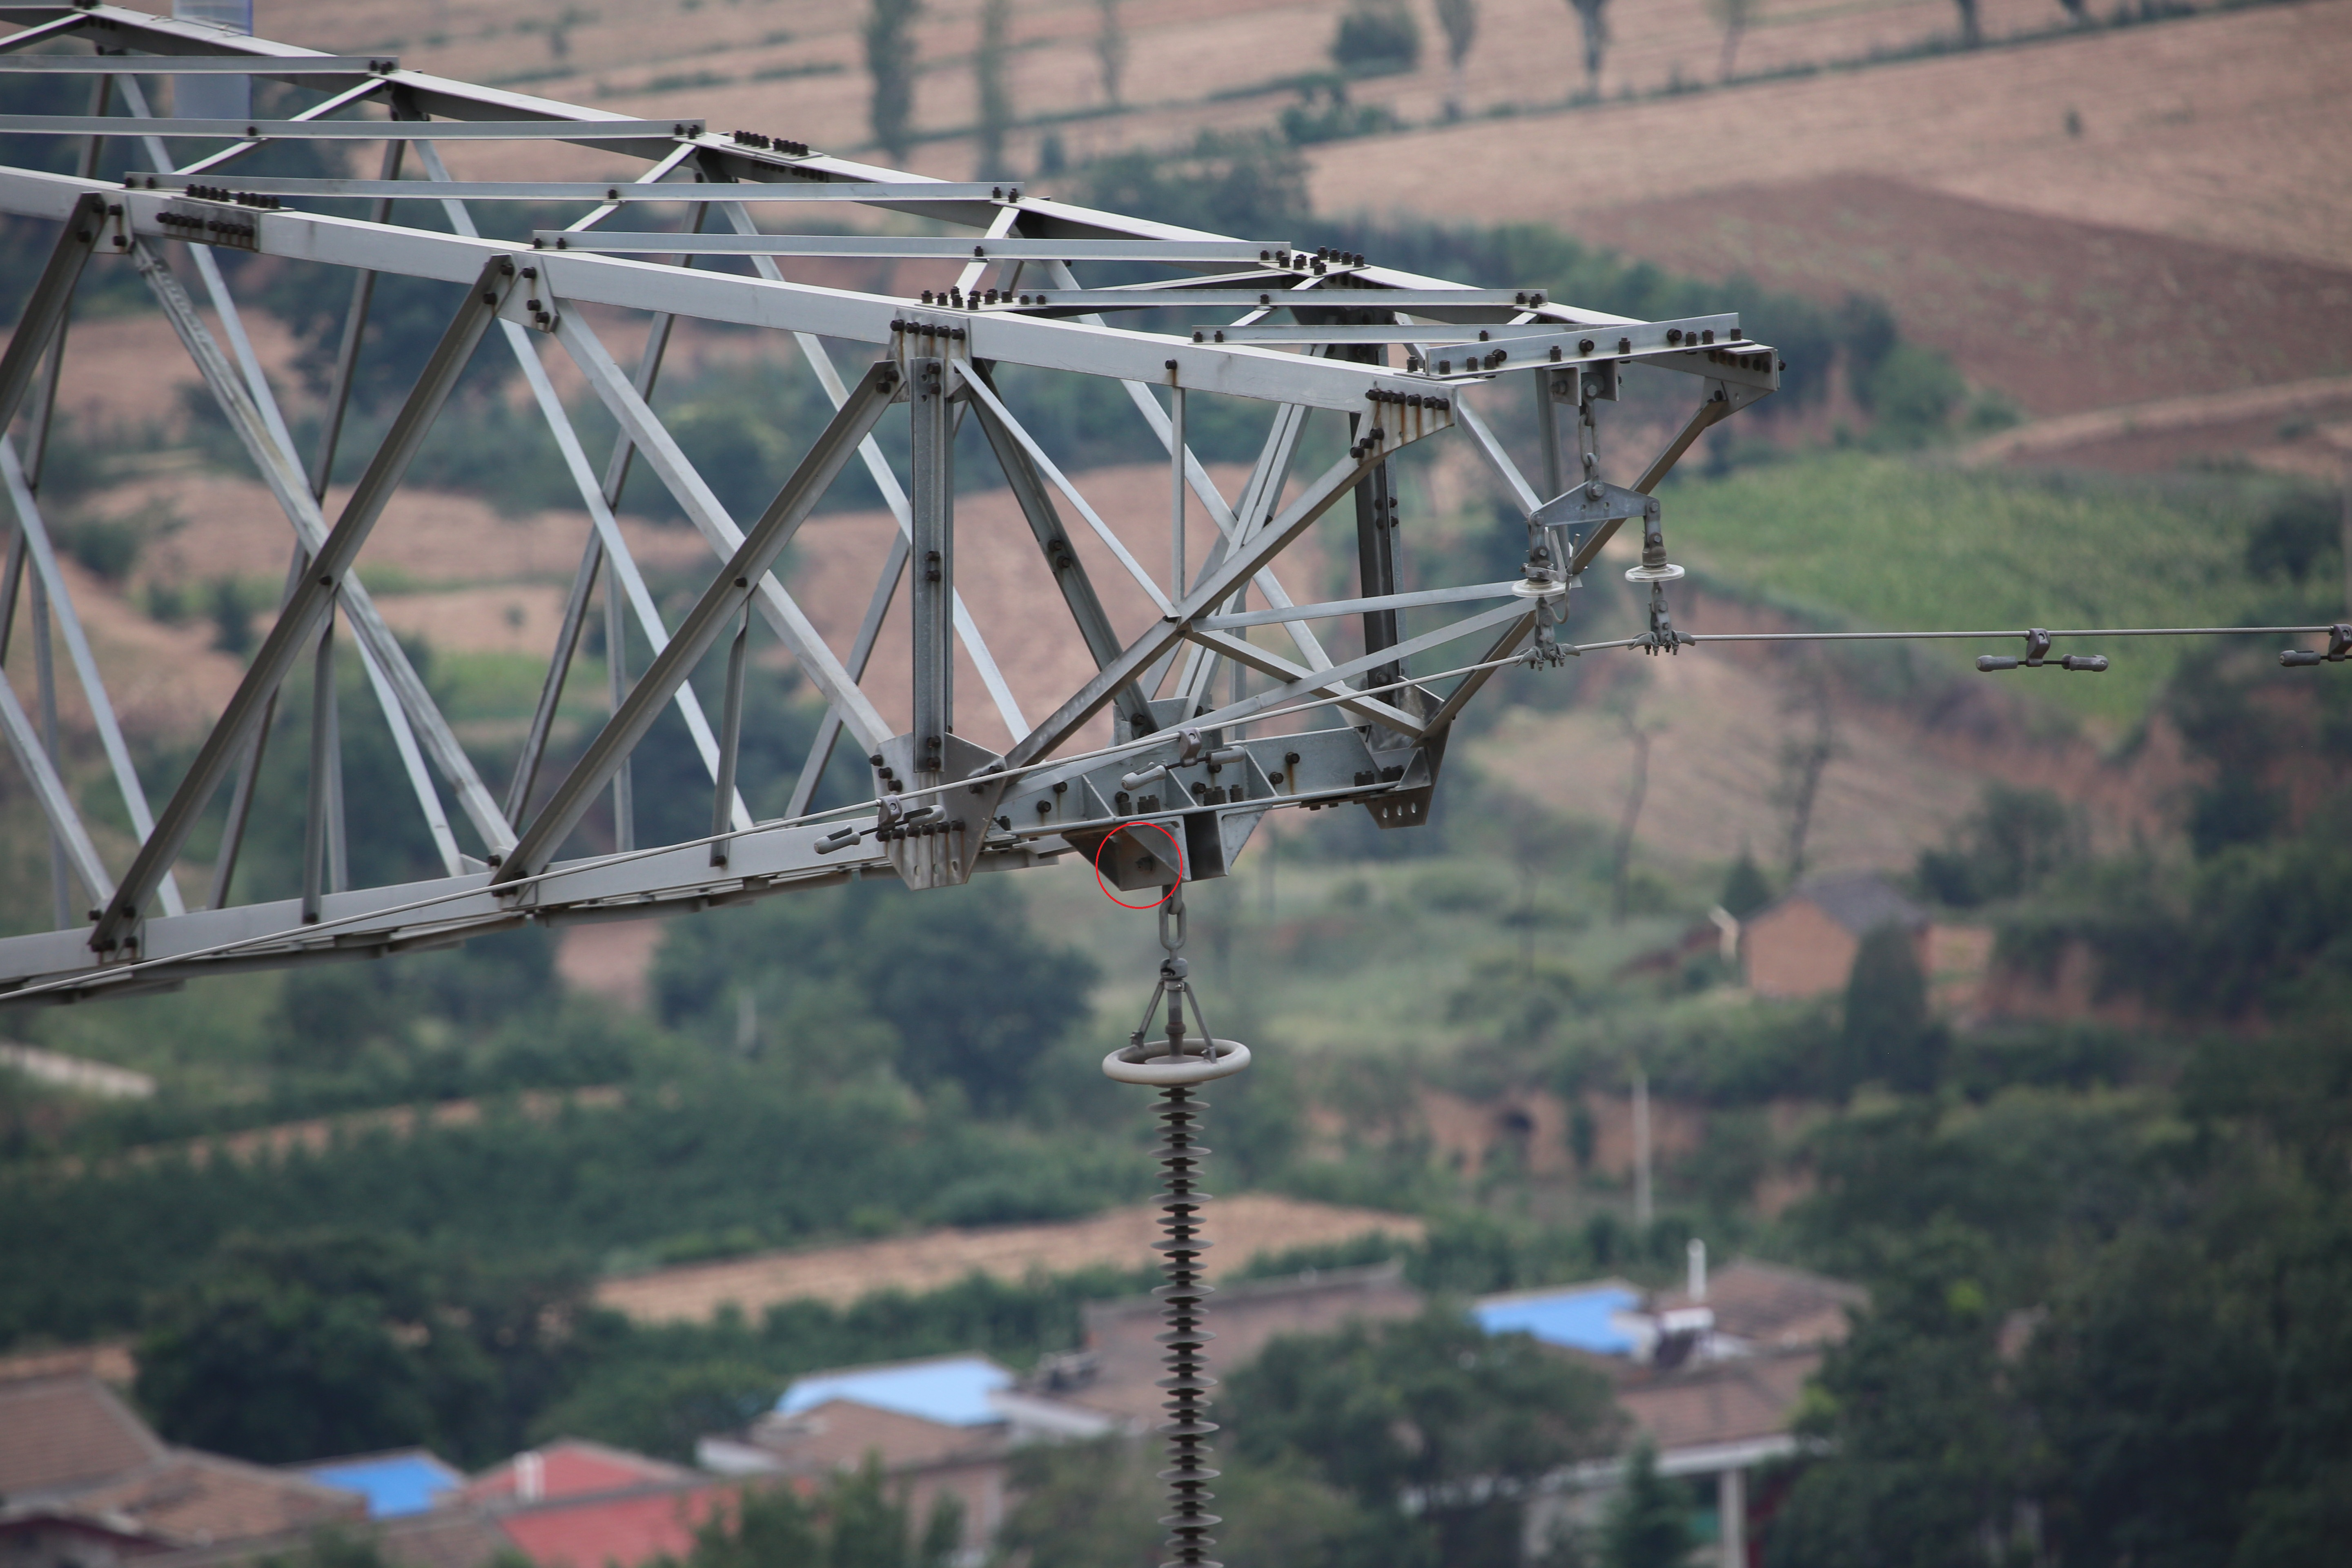bag-type suspension clamp: (1627, 598, 1696, 656), (1512, 614, 1582, 670)
grading ring: (1101, 976, 1253, 1087)
shockproof hammer: (1120, 726, 1249, 791), (814, 794, 947, 854), (1976, 628, 2110, 674), (2278, 623, 2352, 668)
u-type hanging ring: (1582, 453, 1605, 502), (1580, 381, 1599, 427)
yoke plate: (1524, 476, 1662, 528)
